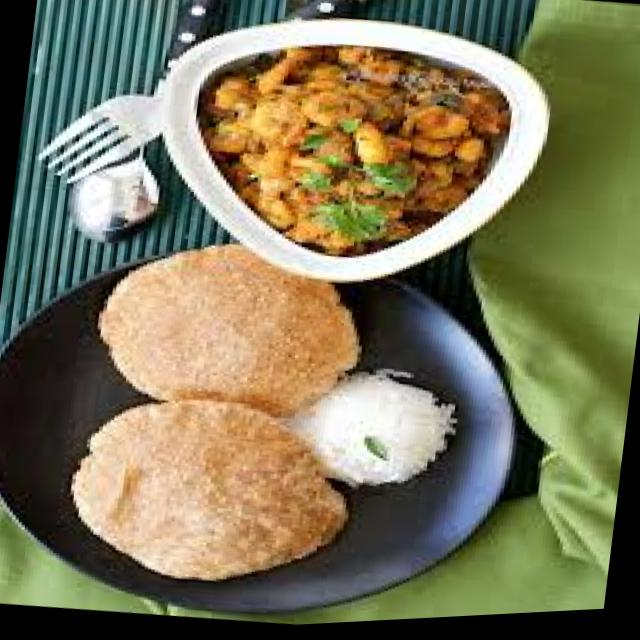POORI: (58, 245, 379, 572)
RICE: (293, 356, 479, 487)
